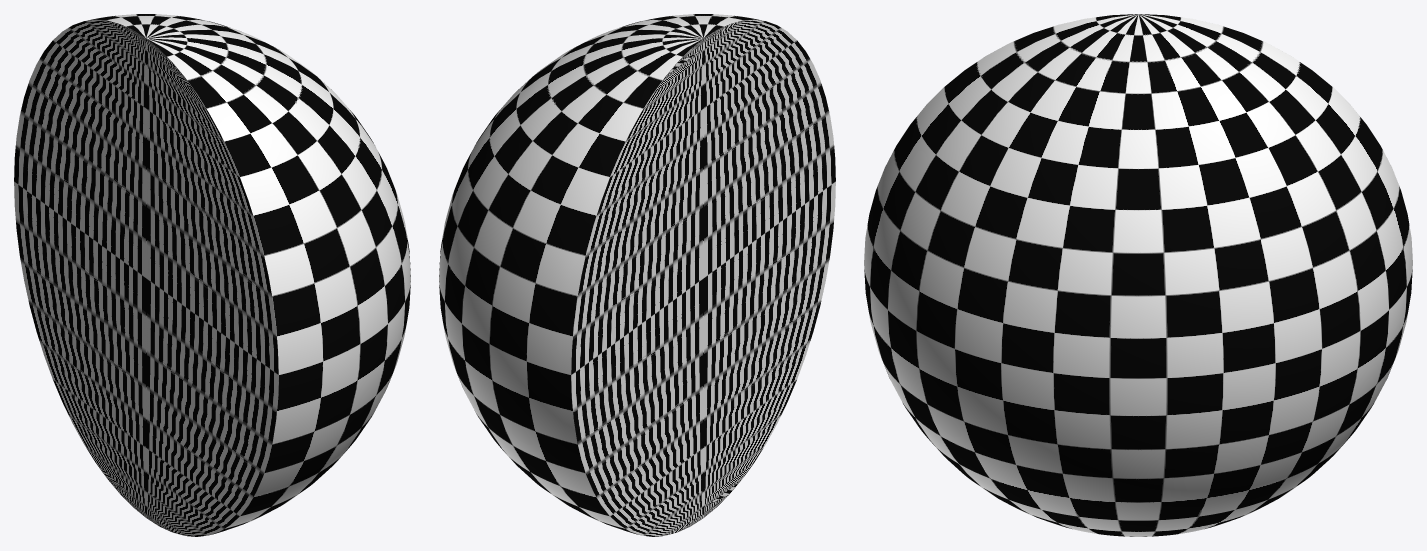
File: sphere01_half.fbx
3 views of the same model, side by side, from view 1: azimuth 30°, elevation 25°; view 2: azimuth 150°, elevation 25°; view 3: azimuth 270°, elevation 25° (orthographic). The views are drawn at different scales.
Visible parts, largest first — view 1: Sphere002; view 2: Sphere002; view 3: Sphere002.
Boxes of the visible parts, x1=… form: Sphere002: x1=14, y1=14, x2=410, y2=536; Sphere002: x1=439, y1=14, x2=835, y2=536; Sphere002: x1=864, y1=14, x2=1412, y2=536.
Bounding box in the file's own units: 1.02 × 2.03 × 2.03.
1 material, 1 textured.
